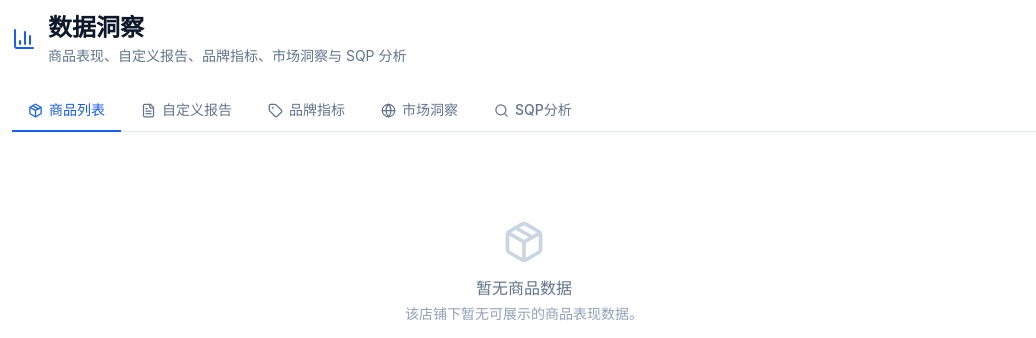
Test: DataInsightsPage empty-states (Req 30.8) › renders the SQP empty-state when there are no rows
Click the button "SQP分析".
click(533, 111)  # box [478,90,588,132]
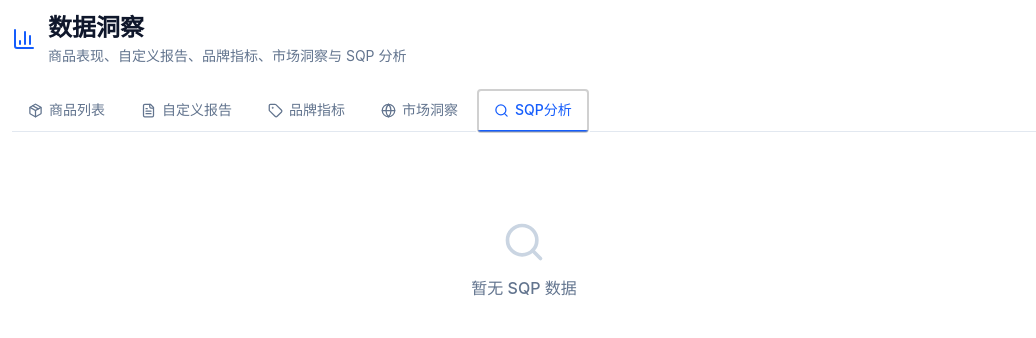
Result: the text "暂无 SQP 数据" is shown at [471,276,577,300]
